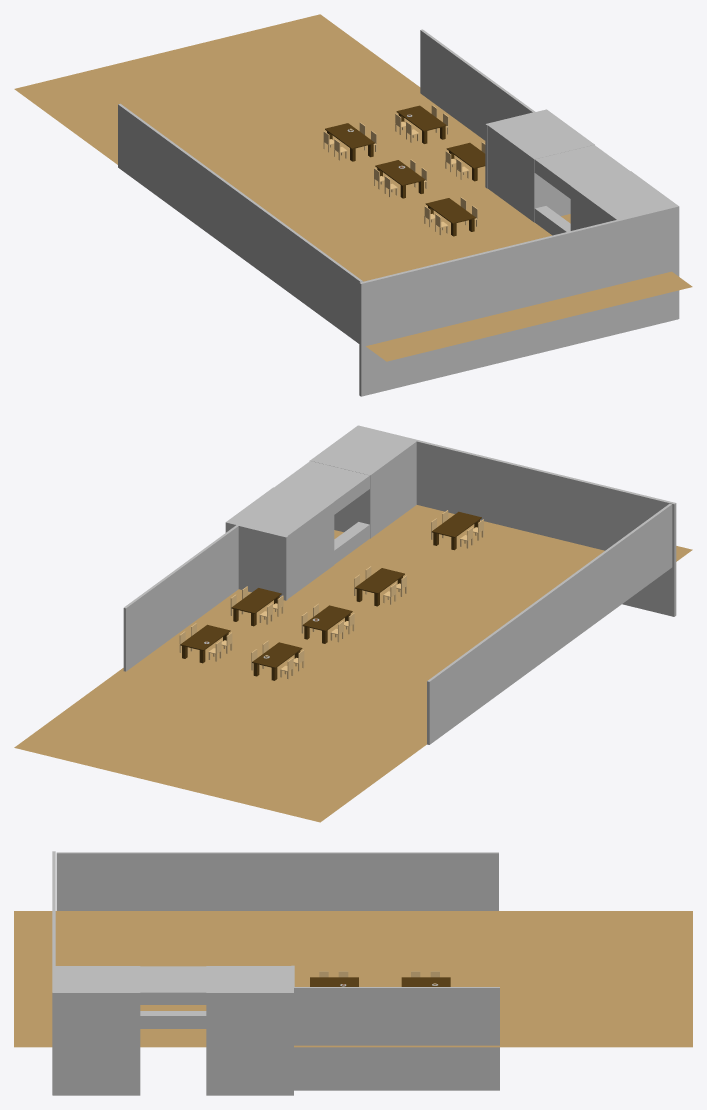
3 views of the same model, one above another, from view 1: azimuth 30°, elevation 25°; view 2: azimuth 150°, elevation 25°; view 3: azimuth 270°, elevation 25° (orthographic). The views are drawn at different scales.
Visible parts, largest first — view 1: Cube (×2), Cube.32; view 2: Cube (×2), Cube.32; view 3: Cube (×2), Cube.32.
Part boxes in pixels (bbox=[...]): Cube (×2): bbox=[14, 14, 692, 361]; Cube.32: bbox=[323, 29, 679, 396]; Cube (×2): bbox=[14, 503, 692, 822]; Cube.32: bbox=[123, 425, 676, 680]; Cube (×2): bbox=[14, 852, 692, 1047]; Cube.32: bbox=[52, 851, 499, 1095].
Bounding box in the file's own units: 1519 × 514 × 3081.
